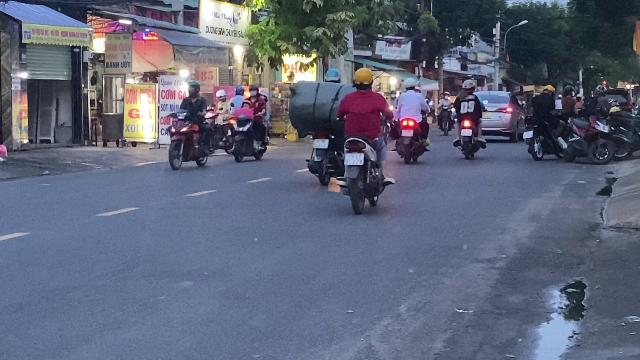helmet: (352, 66, 374, 90), (185, 80, 201, 96), (324, 68, 340, 82)
licenseplate: (344, 153, 364, 165), (314, 138, 328, 148)
motorcyclist: (334, 67, 394, 213), (287, 67, 347, 185), (166, 79, 214, 171)
